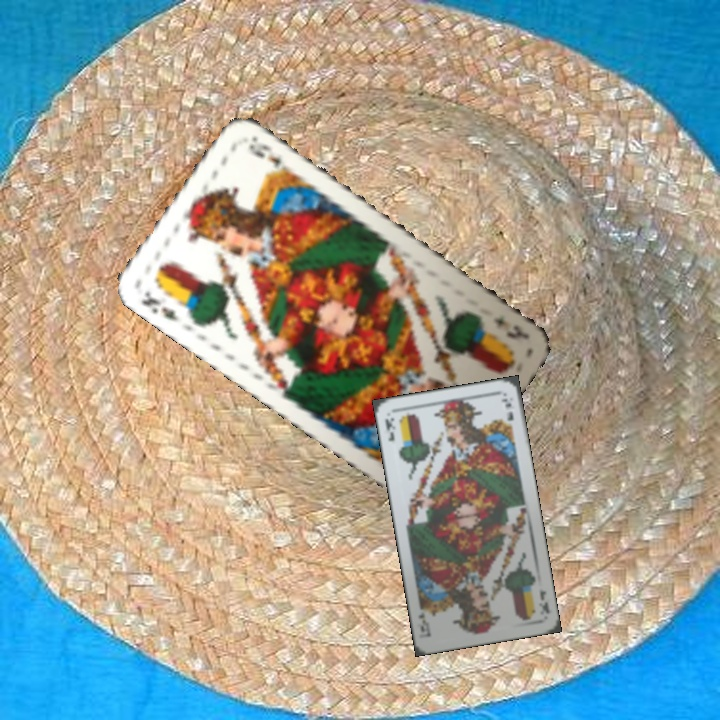EK: (137, 286, 181, 324), (489, 312, 531, 342), (534, 584, 552, 616), (381, 413, 397, 444)
